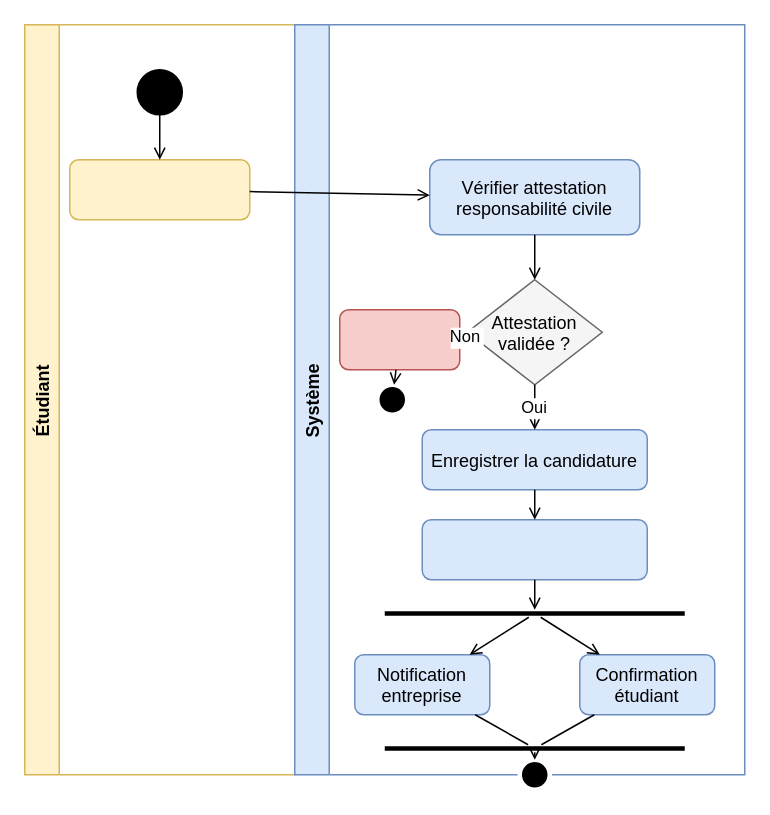
This 770x815 diagram has some shape labels left out. The centre of each missing label's shape, as x and y in pixels:
Afficher erreur: [399,339]
Cliquer sur Candidater: [159,189]
Statut = Soumise: [534,549]
